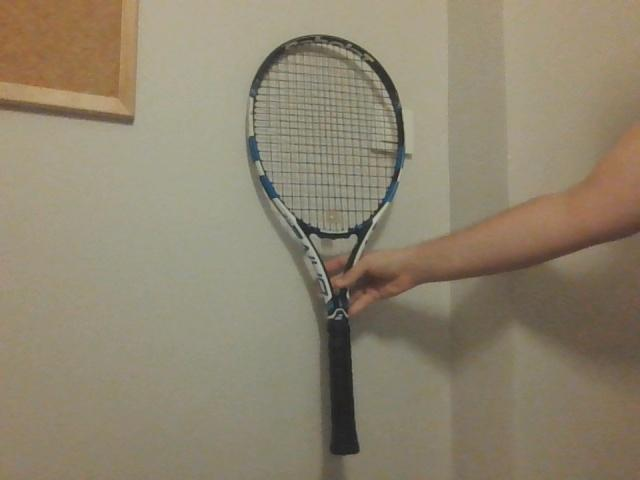Tennis-Racket: (246, 30, 427, 456)
